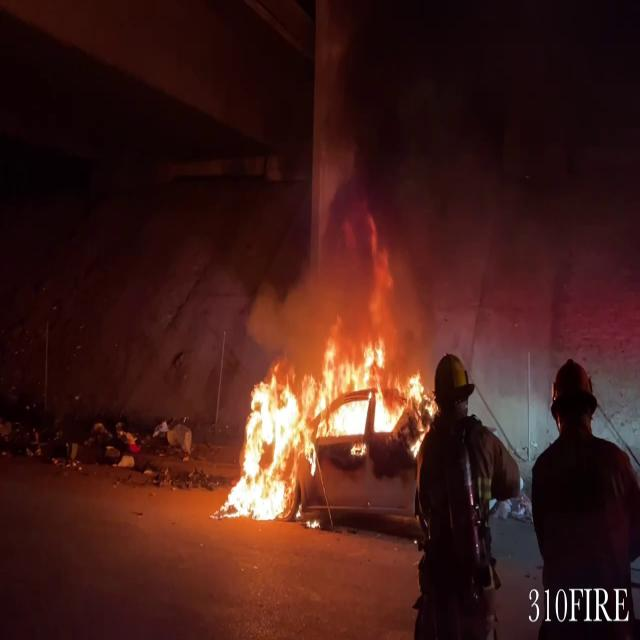Fire: (218, 327, 428, 520)
Smoke: (281, 0, 638, 331)
